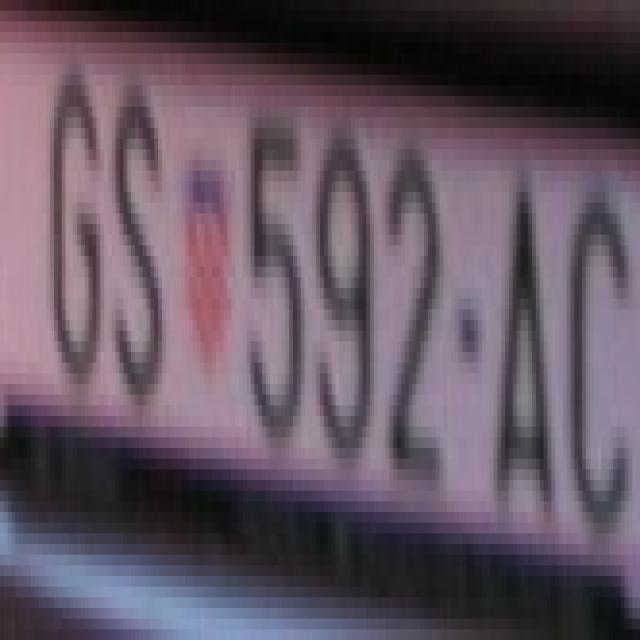2: (378, 117, 451, 512)
5: (239, 85, 308, 448)
9: (316, 117, 378, 480)
A: (490, 149, 559, 544)
C: (559, 160, 636, 533)
G: (39, 53, 108, 384)
S: (108, 64, 173, 405)
